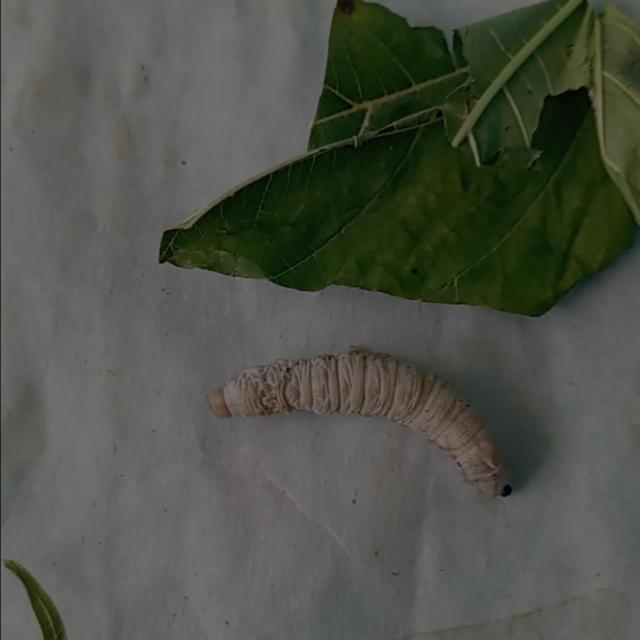Grasserie: (200, 326, 527, 507)
